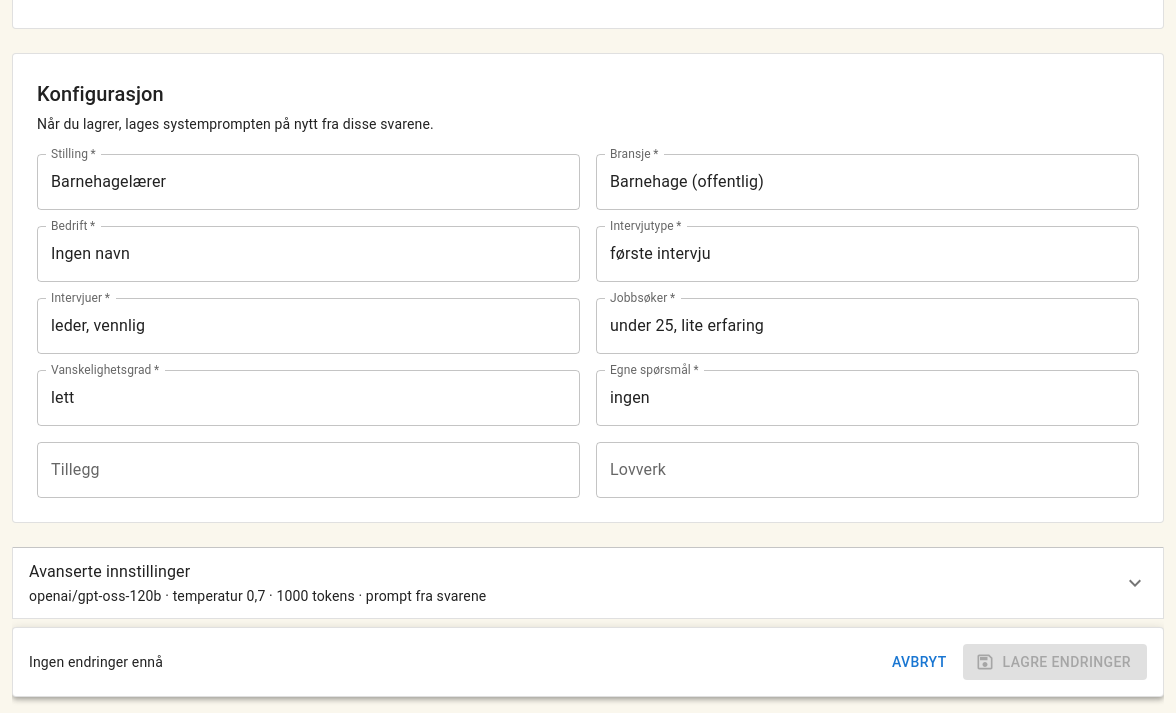
Test: EditAgentForm › cannot be saved before something is changed, and counts the changes
This screenshot has width=1176, height=713.
(page scrolled)
Expected: the button "Lagre endringer" is disabled, [963, 644, 1147, 680]
Expected: the text "Ingen endringer ennå" is shown, [29, 652, 163, 672]
Clear the text box labelled "Vanskelighetsgrad *". click: (308, 398)
box: [51, 386, 566, 410]
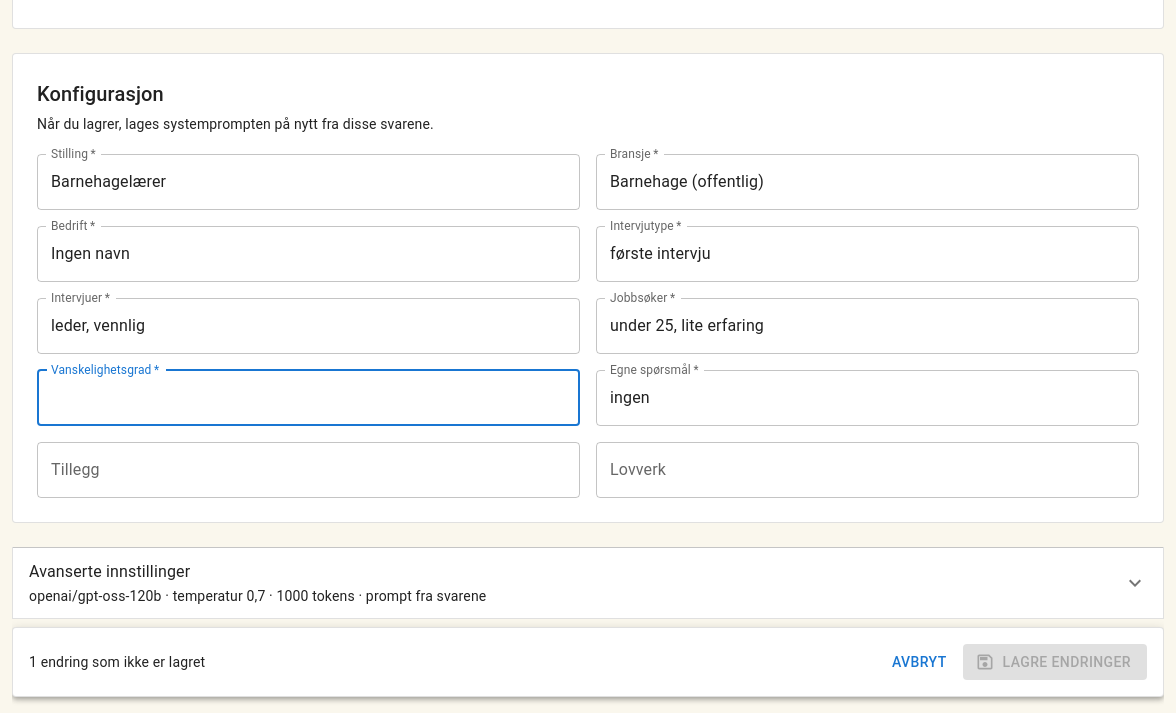
Type keys "vanskelig"
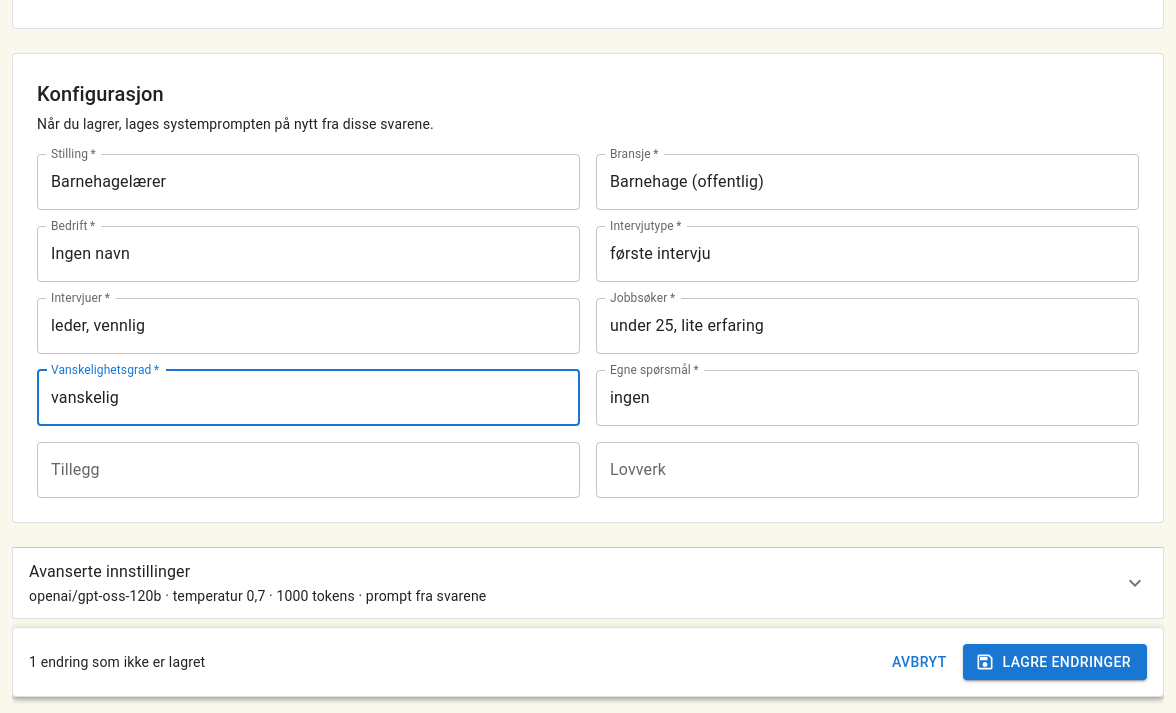
Expected: the text "1 endring som ikke er lagret" is shown, [29, 652, 205, 672]
Expected: the button "Lagre endringer" is enabled, [963, 644, 1147, 680]
